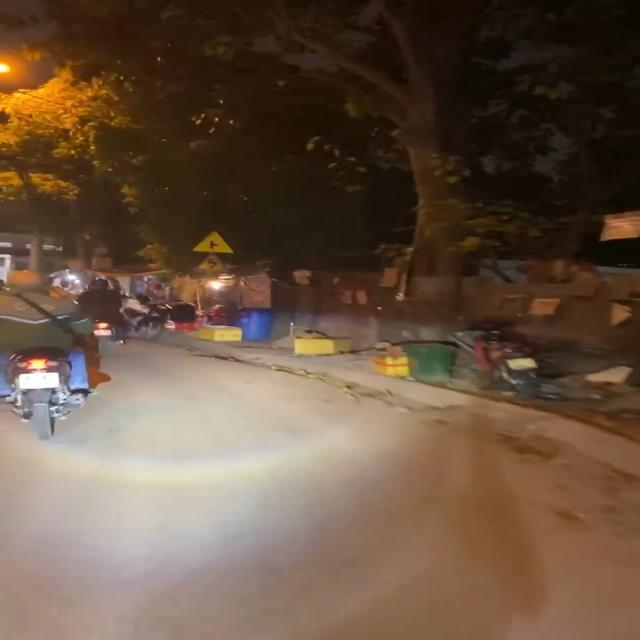201-cho-ngoat-nguy-hiem: (196, 252, 229, 272)
205-duong-giao-nhau: (191, 229, 236, 254)
